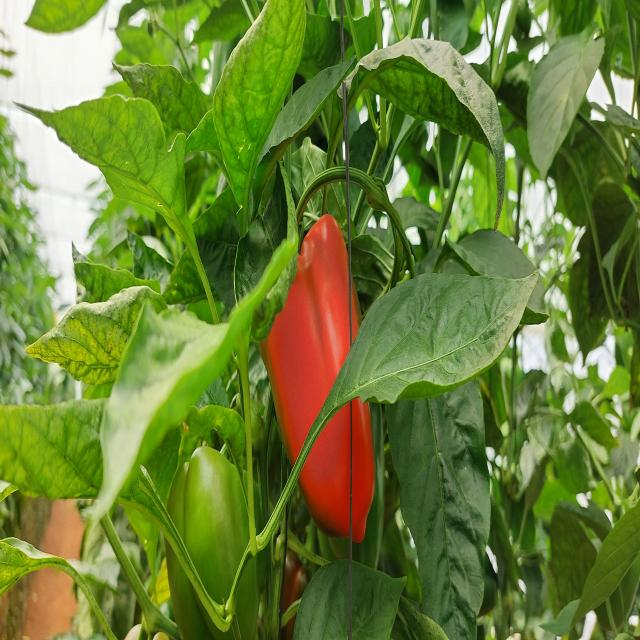Red-Ready-to-Harvest: (259, 250, 391, 552)
